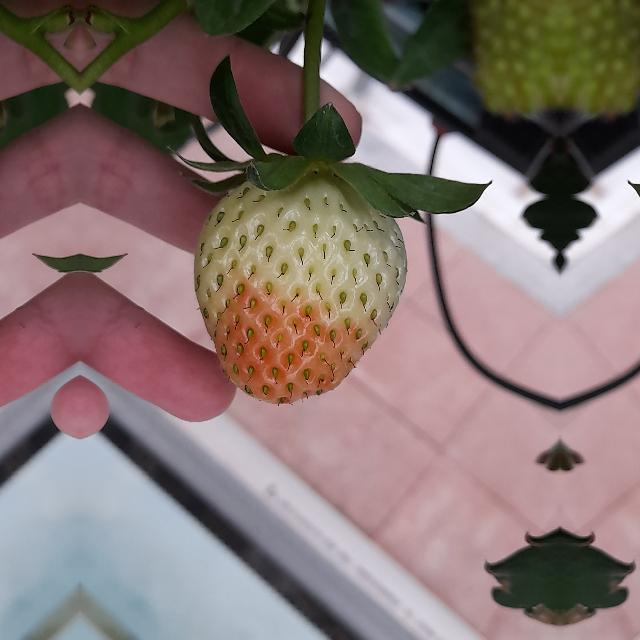Health_50: (193, 170, 407, 404)
